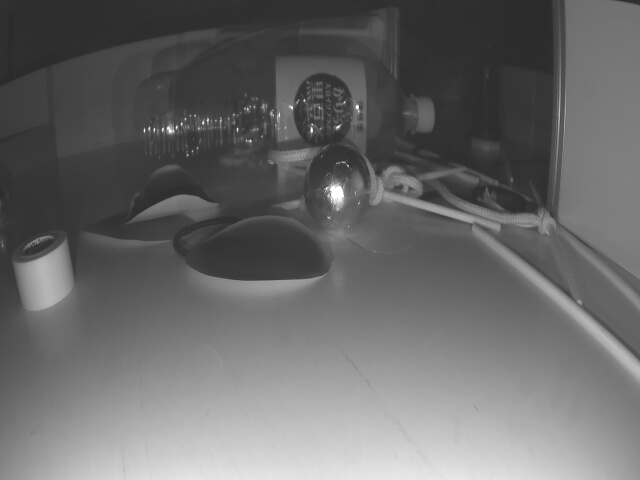Live: (301, 149, 365, 230)
Point: (0, 123, 53, 177)
